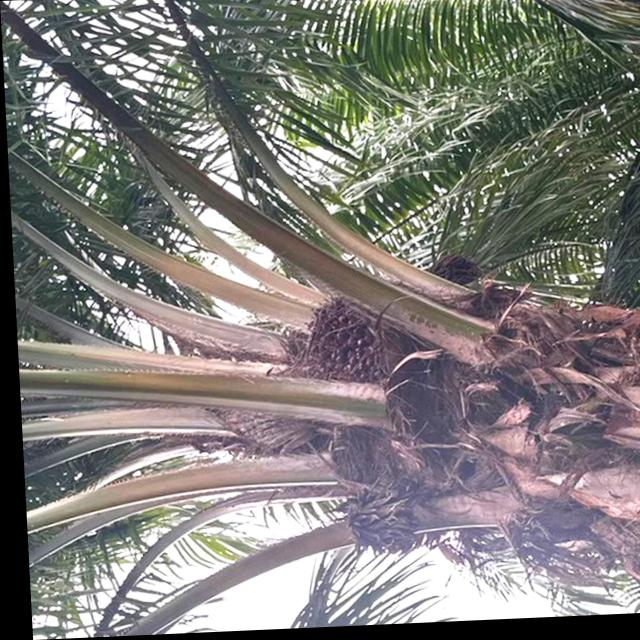ripe: (283, 285, 385, 388)
